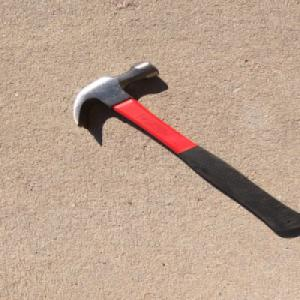Hammer: (68, 59, 300, 240)
